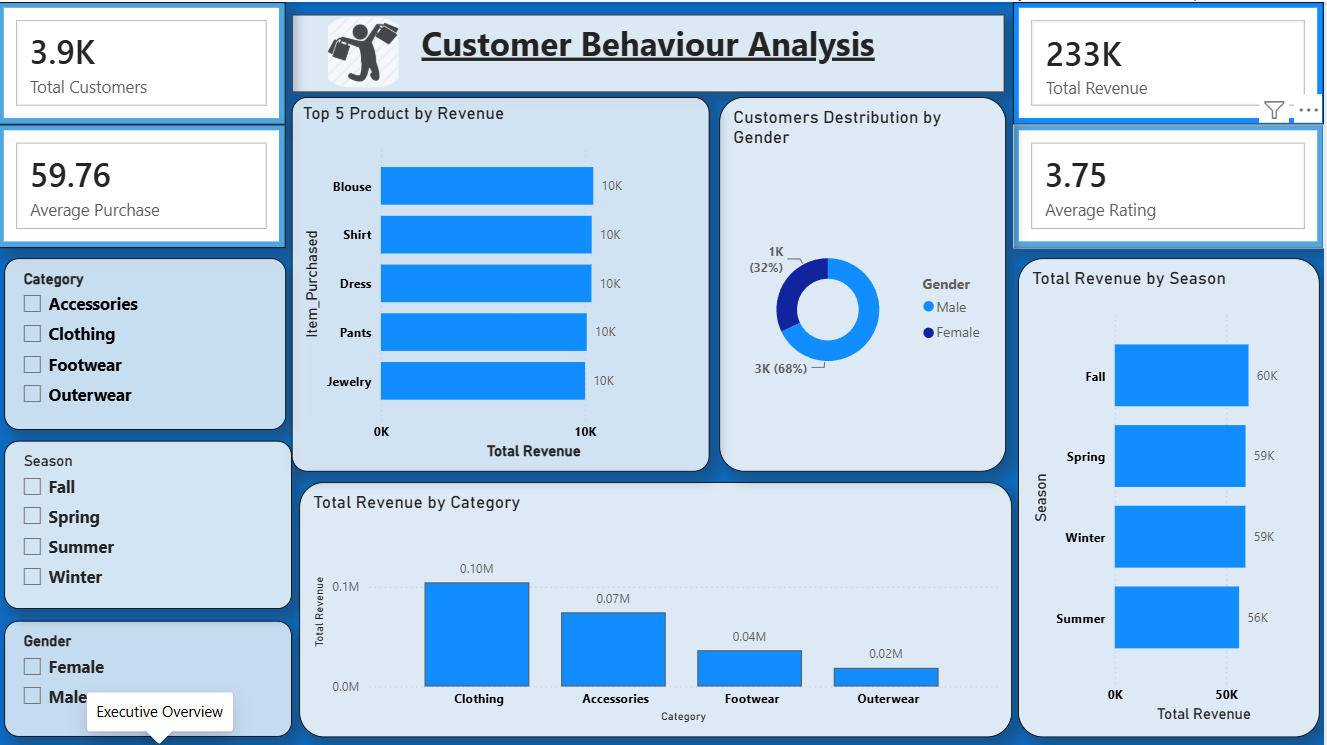

The dashboard page shown, as its layout file describes it:
{"tool":"powerbi","page":{"name":" Executive Overview","canvas":[1280,720],"ordinal":1},"visuals":[{"type":"textbox","box":[283.7,11.5,688.3,74.9],"z":0},{"type":"cardVisual","fields":{"Data":["shopping_behavior_Cleaned.Total Customers"]},"box":[0,0,277.9,118.1],"z":1000},{"type":"cardVisual","fields":{"Data":["shopping_behavior_Cleaned.Total Revenue"]},"box":[979.2,0,301,118.1],"z":2000},{"type":"cardVisual","fields":{"Data":["shopping_behavior_Cleaned.Average Purchase"]},"box":[0,118.1,277.9,119.5],"z":3000},{"type":"cardVisual","fields":{"Data":["shopping_behavior_Cleaned.Average Rating"]},"box":[979.2,118.1,301,119.5],"z":4000},{"type":"slicer","fields":{"Values":["shopping_behavior_Cleaned.Gender"]},"box":[5.8,597.6,277.9,112.3],"z":5000},{"type":"slicer","fields":{"Values":["shopping_behavior_Cleaned.Category"]},"box":[5.8,247.7,272.2,165.6],"z":6000},{"type":"slicer","fields":{"Values":["shopping_behavior_Cleaned.Season"]},"box":[5.8,423.4,277.9,162.7],"z":7000},{"type":"clusteredColumnChart","fields":{"Category":["shopping_behavior_Cleaned.Category"],"Y":["shopping_behavior_Cleaned.Total Revenue"]},"box":[290.9,463.7,688.3,246.2],"z":8000},{"type":"donutChart","fields":{"Category":["shopping_behavior_Cleaned.Gender"],"Y":["shopping_behavior_Cleaned.Total Customers"]},"box":[695.5,92.2,276.5,361.4],"z":9000},{"type":"clusteredBarChart","fields":{"Category":["shopping_behavior_Cleaned.Season"],"Y":["shopping_behavior_Cleaned.Total Revenue"]},"box":[985,247.7,290.9,462.2],"z":10000},{"type":"clusteredBarChart","title":"Top 5 Product by Revenue","fields":{"Category":["shopping_behavior_Cleaned.Item_Purchased"],"Y":["shopping_behavior_Cleaned.Total Revenue"]},"box":[283.7,92.2,403.2,361.4],"z":11000},{"type":"image","box":[306.7,14.4,92.2,67.7],"z":13001}]}

Visuals, with their boxes in screenshot pixels (x1, y1, x2, y2), scaled from the page's 1280x720 canvas onto the 1327x745 screenshot:
textbox: {"x1": 294, "y1": 12, "x2": 1008, "y2": 89}
cardVisual - shopping_behavior_Cleaned.Total Customers: {"x1": 0, "y1": 0, "x2": 288, "y2": 122}
cardVisual - shopping_behavior_Cleaned.Total Revenue: {"x1": 1015, "y1": 0, "x2": 1326, "y2": 122}
cardVisual - shopping_behavior_Cleaned.Average Purchase: {"x1": 0, "y1": 122, "x2": 288, "y2": 246}
cardVisual - shopping_behavior_Cleaned.Average Rating: {"x1": 1015, "y1": 122, "x2": 1326, "y2": 246}
slicer - shopping_behavior_Cleaned.Gender: {"x1": 6, "y1": 618, "x2": 294, "y2": 735}
slicer - shopping_behavior_Cleaned.Category: {"x1": 6, "y1": 256, "x2": 288, "y2": 428}
slicer - shopping_behavior_Cleaned.Season: {"x1": 6, "y1": 438, "x2": 294, "y2": 606}
clusteredColumnChart - shopping_behavior_Cleaned.Category x shopping_behavior_Cleaned.Total Revenue: {"x1": 302, "y1": 480, "x2": 1015, "y2": 735}
donutChart - shopping_behavior_Cleaned.Gender x shopping_behavior_Cleaned.Total Customers: {"x1": 721, "y1": 95, "x2": 1008, "y2": 469}
clusteredBarChart - shopping_behavior_Cleaned.Season x shopping_behavior_Cleaned.Total Revenue: {"x1": 1021, "y1": 256, "x2": 1323, "y2": 735}
"Top 5 Product by Revenue" clusteredBarChart: {"x1": 294, "y1": 95, "x2": 712, "y2": 469}
image: {"x1": 318, "y1": 15, "x2": 414, "y2": 85}
